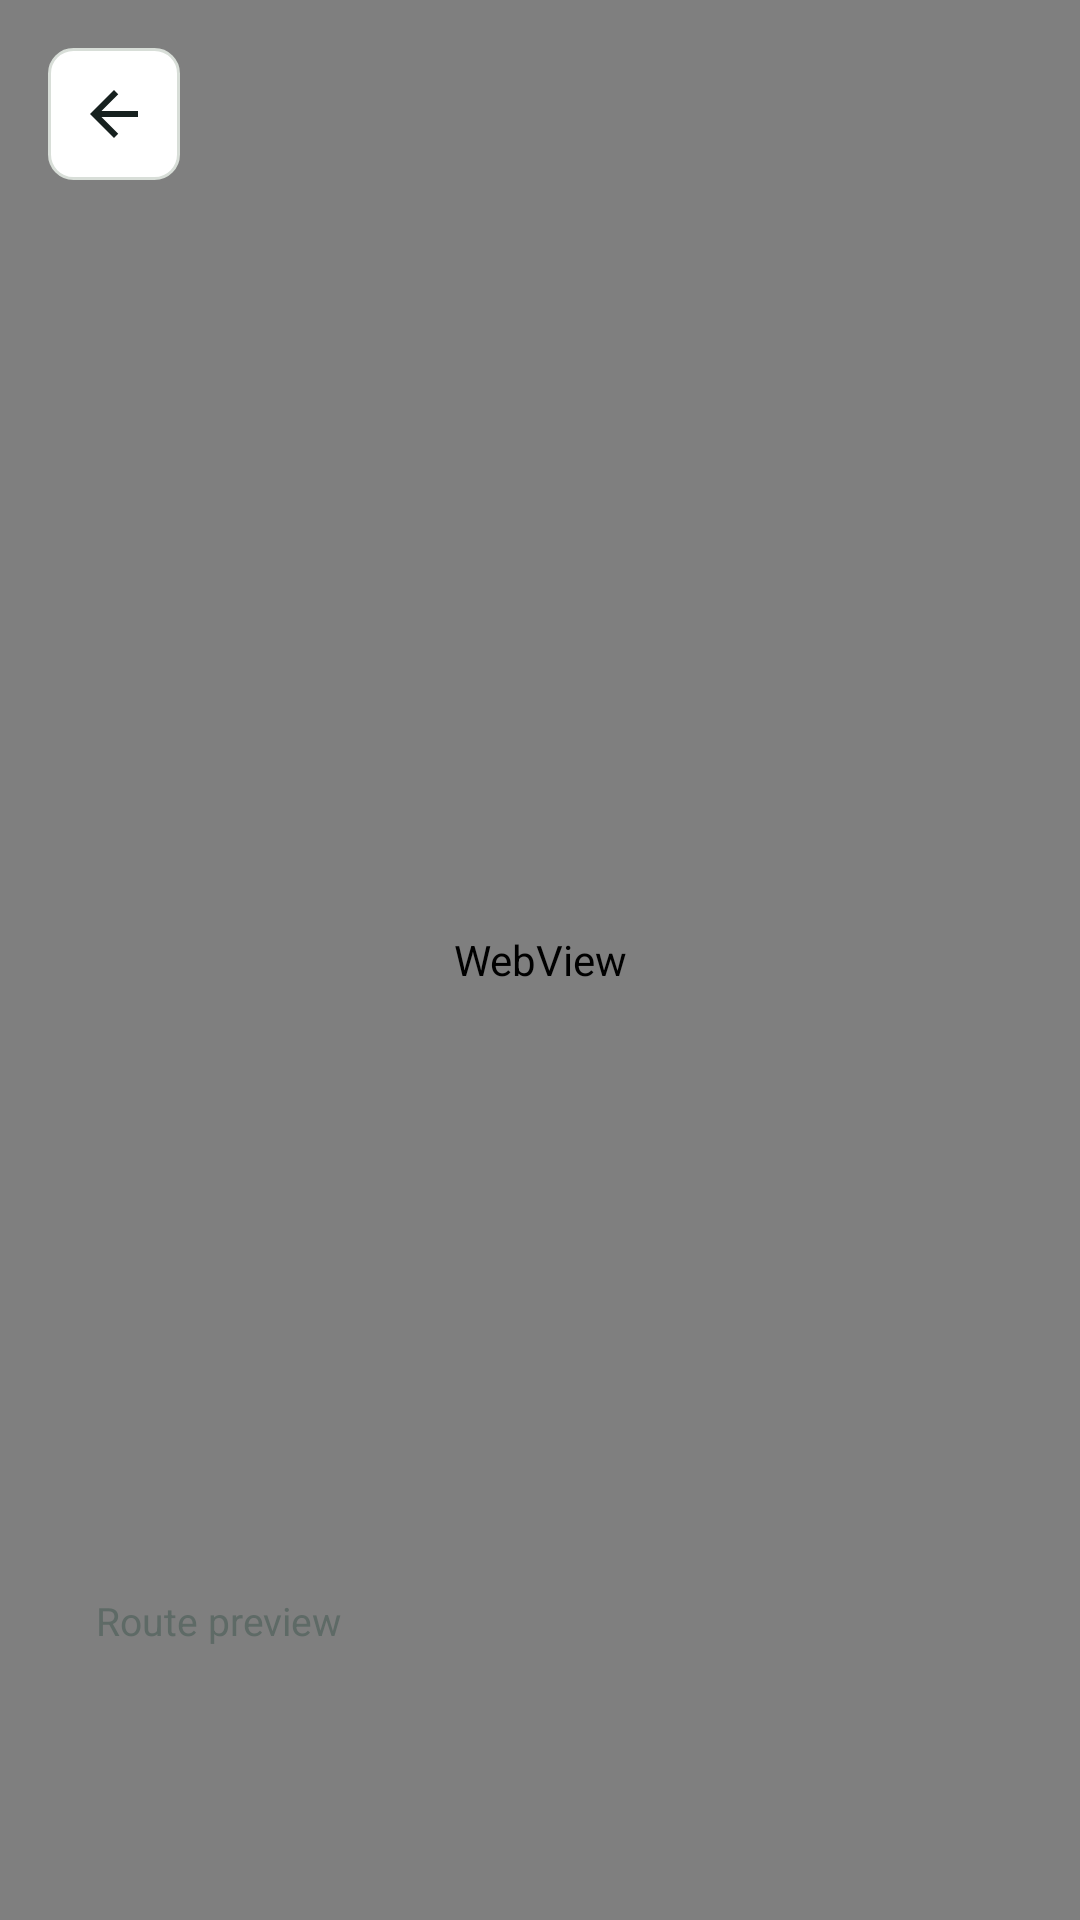

Icons on this 1080 x 1920 Android screen, each with the point to tap as point (x, y):
Back: point (114, 114)
